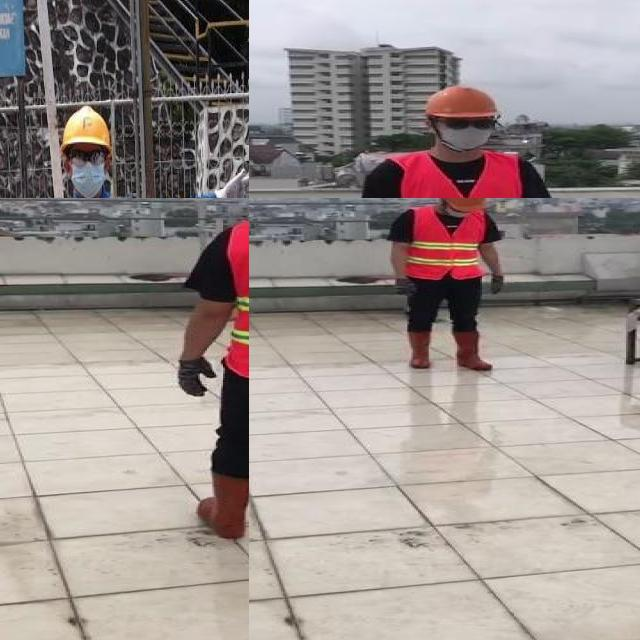boots: (193, 466, 249, 537), (450, 329, 494, 371), (406, 328, 434, 371)
face_mask: (438, 116, 499, 150)
glasses: (438, 115, 497, 132)
hand_glove: (175, 357, 212, 397), (395, 278, 416, 298), (489, 273, 509, 294)
head_helmet: (56, 95, 119, 159), (418, 84, 501, 118), (437, 198, 485, 212)
person: (159, 198, 249, 586), (0, 93, 249, 198), (351, 82, 570, 198), (377, 198, 518, 375)
vest: (395, 153, 526, 198), (406, 206, 484, 280)
